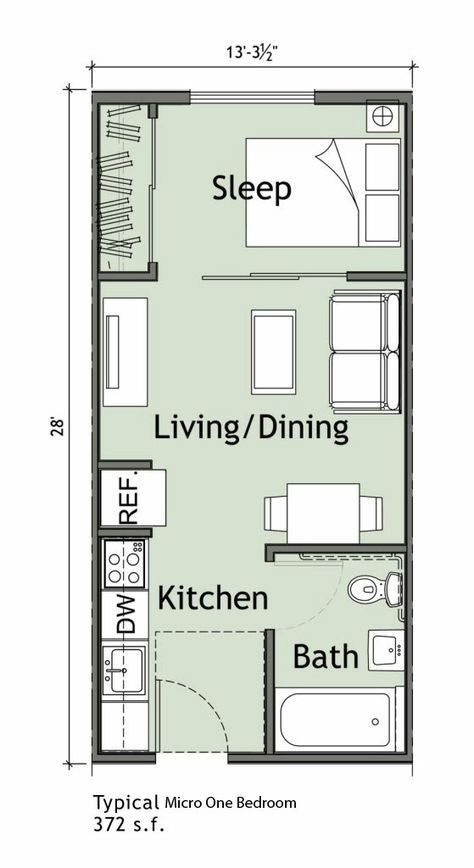door: (158, 670, 240, 760)
room: (95, 277, 419, 556), (98, 551, 424, 769), (87, 99, 411, 277)
wall: (399, 89, 423, 774), (85, 97, 107, 762), (223, 747, 416, 769), (262, 537, 408, 560), (262, 622, 282, 762), (315, 85, 414, 111), (89, 86, 191, 109), (98, 522, 160, 548), (95, 266, 169, 286), (89, 751, 161, 770), (341, 268, 408, 286), (99, 455, 154, 472)
window: (187, 85, 319, 111)
